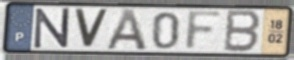0: (150, 10, 183, 50)
A: (104, 8, 150, 52)
B: (221, 8, 263, 54)
F: (182, 9, 226, 53)
N: (33, 7, 72, 51)
V: (72, 7, 111, 51)
